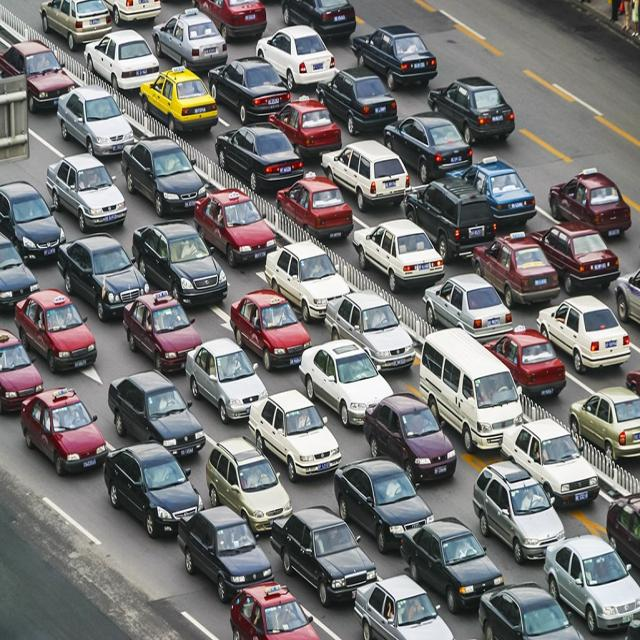car: (271, 503, 379, 600), (545, 527, 640, 629), (106, 440, 202, 538), (471, 459, 566, 556), (247, 382, 343, 476), (334, 455, 433, 544), (107, 370, 204, 460), (299, 336, 391, 426), (206, 434, 292, 528), (184, 509, 276, 592), (368, 394, 456, 479), (323, 290, 418, 366), (479, 571, 583, 640), (404, 179, 496, 257), (134, 222, 228, 298), (353, 571, 456, 640), (266, 238, 352, 320), (353, 216, 445, 292), (539, 294, 631, 369), (20, 390, 104, 472), (192, 182, 276, 263), (14, 289, 97, 369), (58, 235, 148, 308), (185, 337, 266, 418), (123, 285, 202, 368), (214, 120, 304, 192), (471, 236, 561, 306), (424, 271, 513, 340), (427, 74, 516, 142), (550, 166, 632, 239), (227, 290, 308, 363), (122, 139, 206, 209), (46, 153, 127, 224), (56, 81, 132, 155), (139, 67, 219, 136), (1, 42, 77, 113), (0, 178, 64, 261), (231, 585, 321, 640), (274, 175, 350, 240)
